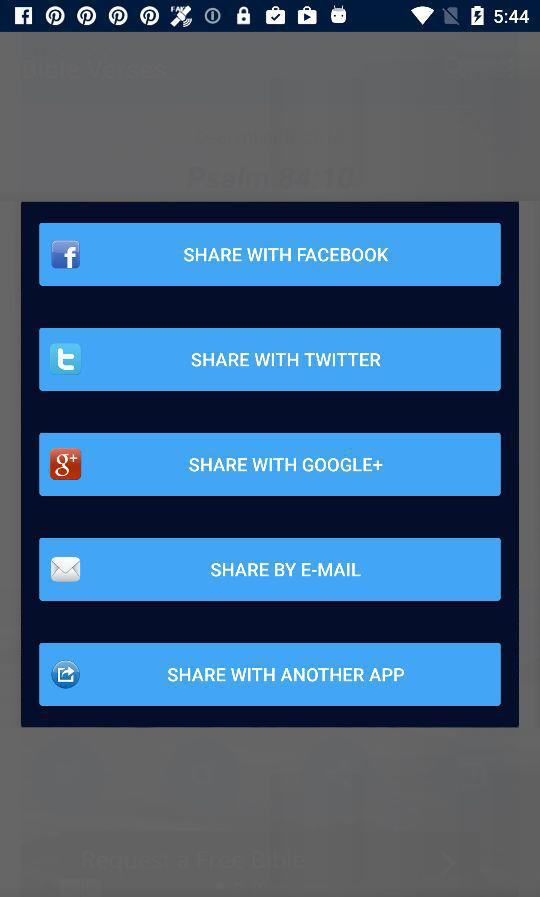Modal: (22, 202, 519, 728)
TextButton: (39, 433, 502, 497), (39, 328, 502, 392), (39, 223, 502, 287), (39, 538, 501, 602), (40, 643, 501, 707)
UpperTaskBar: (1, 1, 540, 33)
